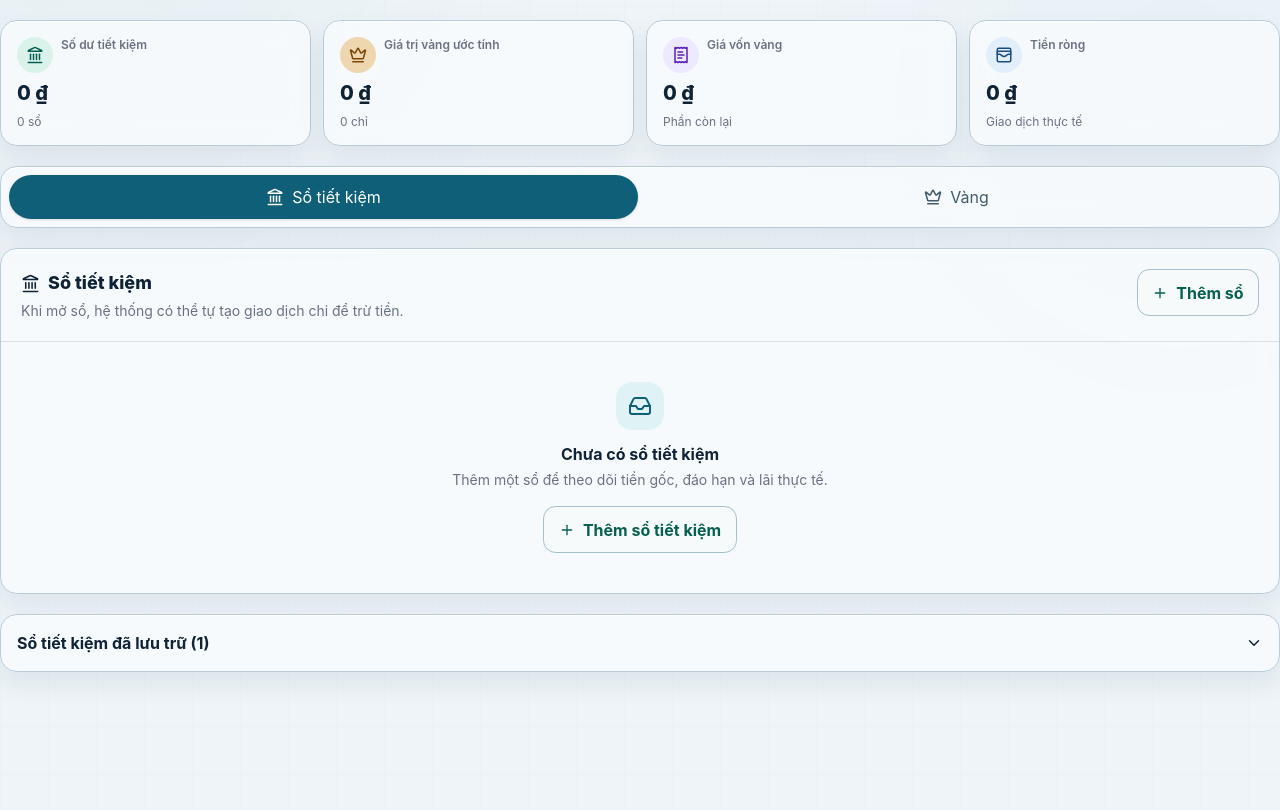
Tài sản › không hiển thị sổ archived đã tất toán là quá hạn
Step 1. Click the text "Sổ tiết kiệm đã lưu trữ (1)" → point(113, 643), box top-left (17, 631), bottom-right (210, 655)
(page scrolled)
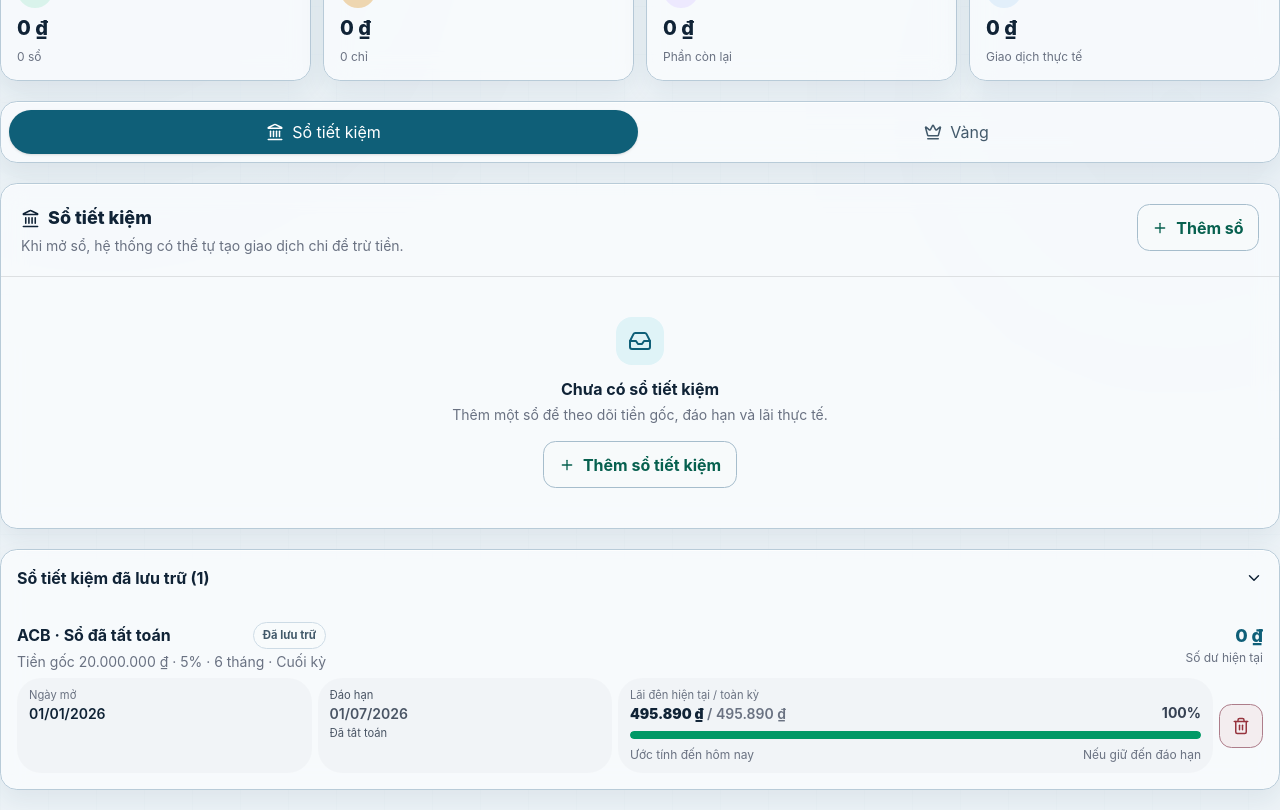
Expected: the text "ACB · Sổ đã tất toán" does not show "Đã quá hạn", top-left (1, 606), bottom-right (1279, 789)
Expected: the text "Đã tất toán" is shown, top-left (330, 726), bottom-right (387, 740)
